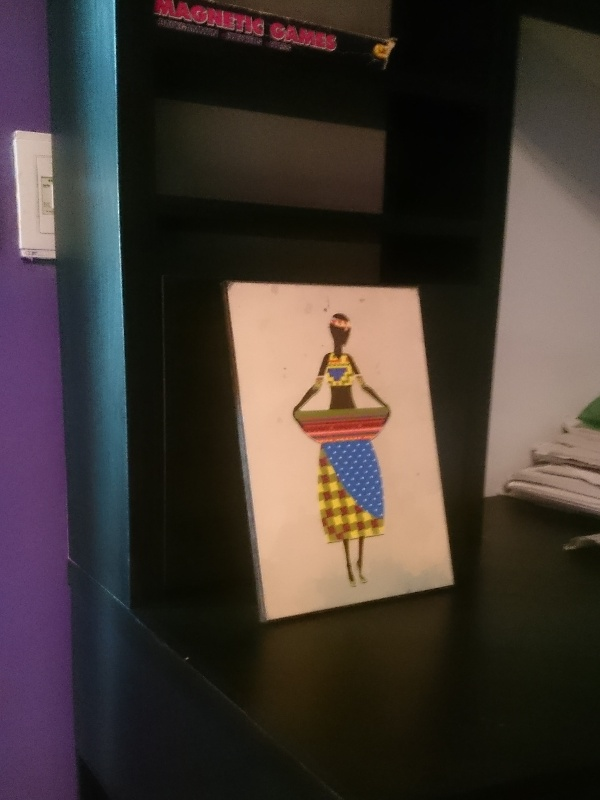my image: (226, 284, 451, 623)
